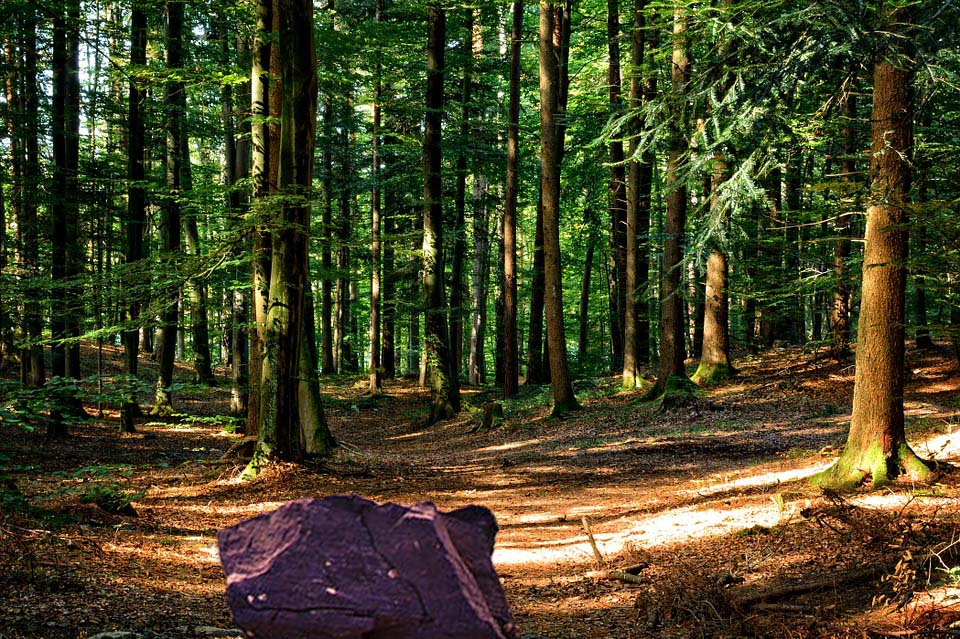Rocks: (211, 492, 512, 639)
